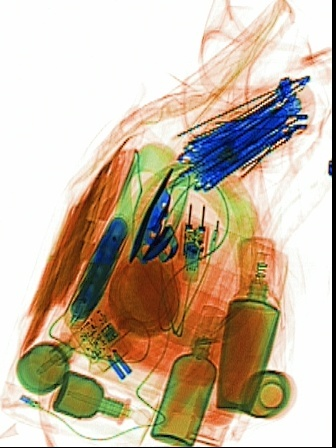powerbank: (60, 213, 127, 326)
